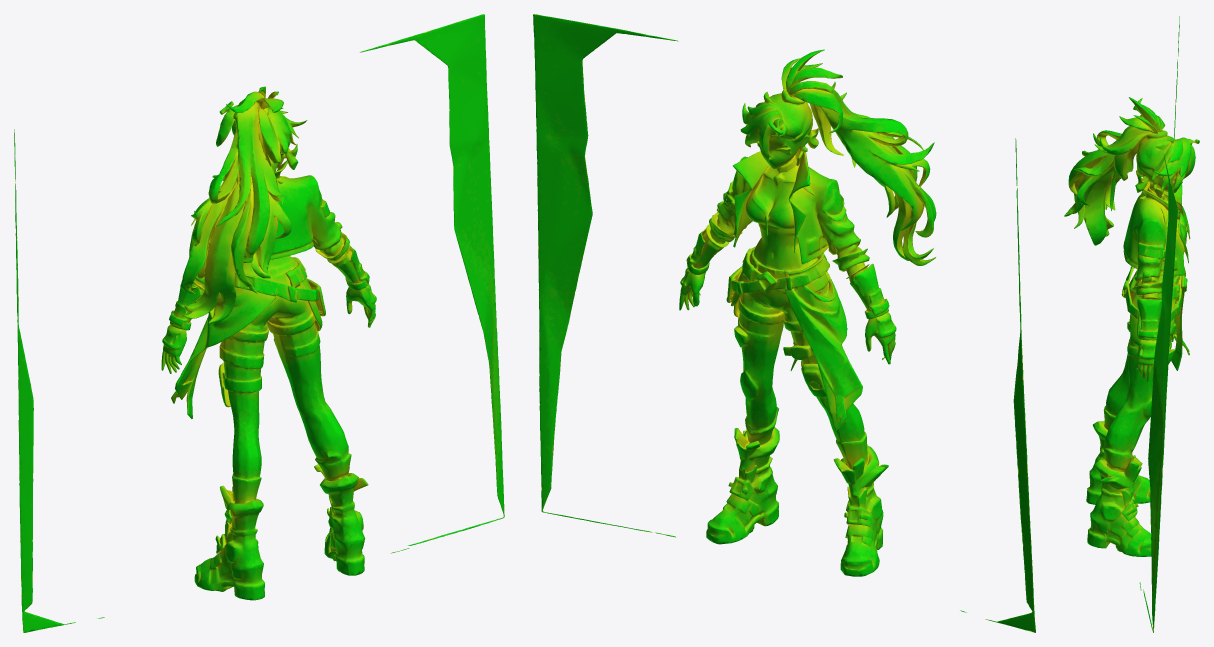
The model's file is aria_outline.fbx.
3 views of the same model, side by side, from view 1: azimuth 30°, elevation 25°; view 2: azimuth 150°, elevation 25°; view 3: azimuth 270°, elevation 25° (orthographic). The views are drawn at different scales.
Visible parts, largest first — view 1: aria_outline; view 2: aria_outline; view 3: aria_outline.
Boxes of the visible parts, x1=… form: aria_outline: x1=14, y1=14, x2=504, y2=632; aria_outline: x1=533, y1=14, x2=1035, y2=632; aria_outline: x1=1064, y1=16, x2=1199, y2=632.
Size of the model in its own units: 180 by 180 by 51.67.
